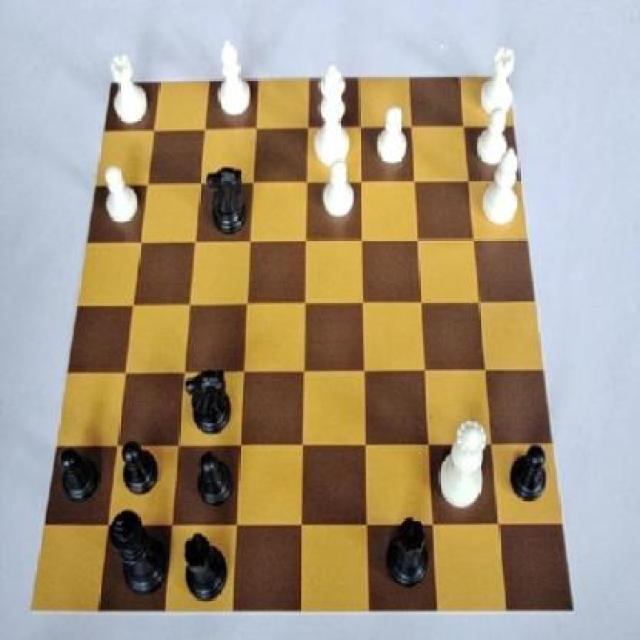black-bishop: (105, 509, 166, 610)
black-king: (184, 361, 236, 444), (202, 162, 250, 238)
black-knight: (54, 440, 102, 517), (504, 440, 552, 508), (117, 434, 162, 506), (192, 451, 237, 516)
black-queen: (383, 511, 439, 595), (180, 532, 231, 607)
black-rook: (209, 39, 254, 122), (481, 143, 524, 226)
white-bishop: (311, 59, 353, 178)
white-knight: (99, 160, 142, 235), (371, 101, 412, 178), (320, 156, 358, 226)
white-pawn: (436, 417, 488, 519)
white-queen: (101, 46, 154, 129), (471, 40, 522, 118)
